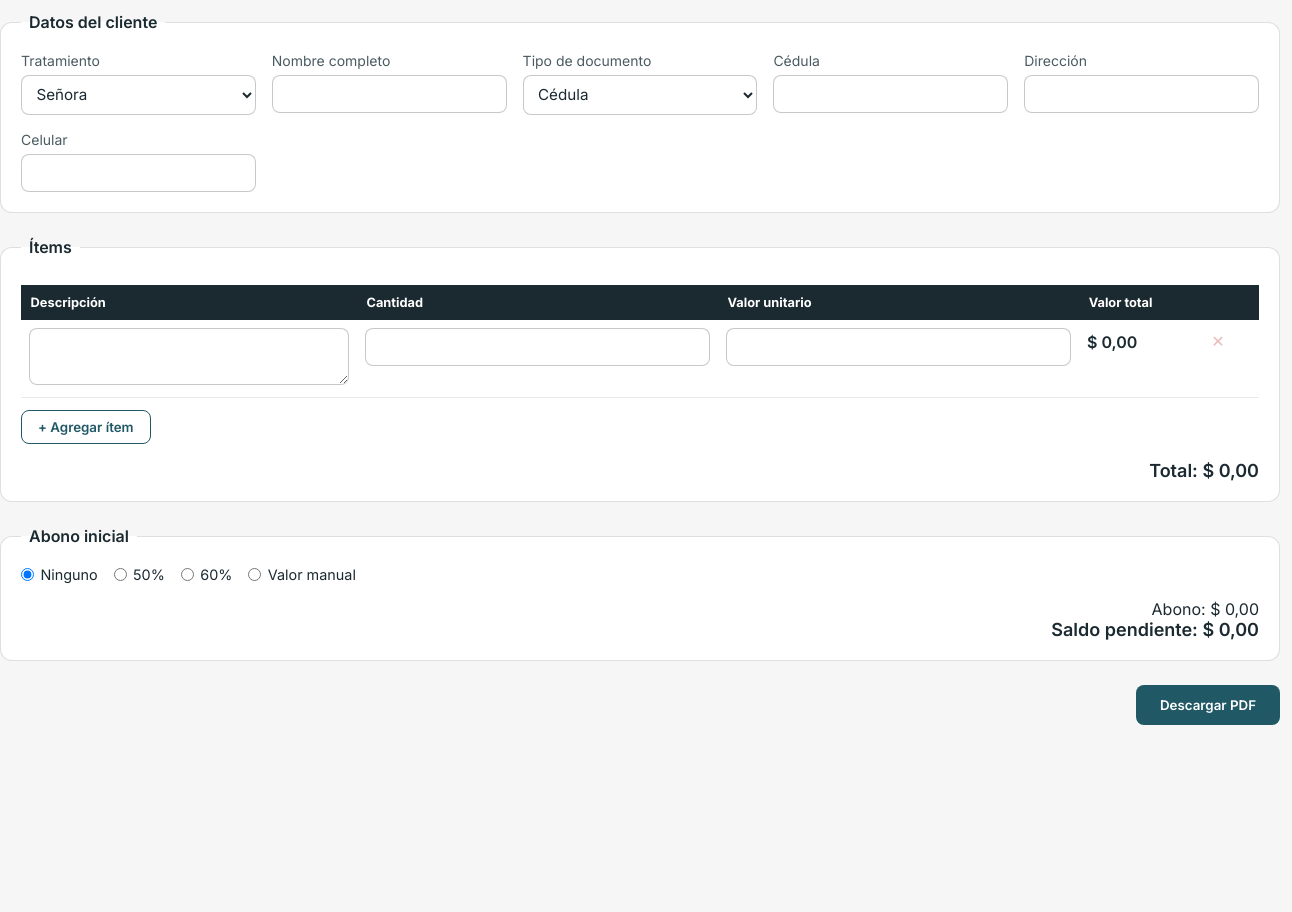
Scenario: CuentaCobroForm › muestra el campo de valor manual solo cuando se elige esa opción
Check: the field labelled "Valor del abono" is not shown
Step 1. Click the text "Valor manual" → coordinates (302, 575), box [248,566,356,583]
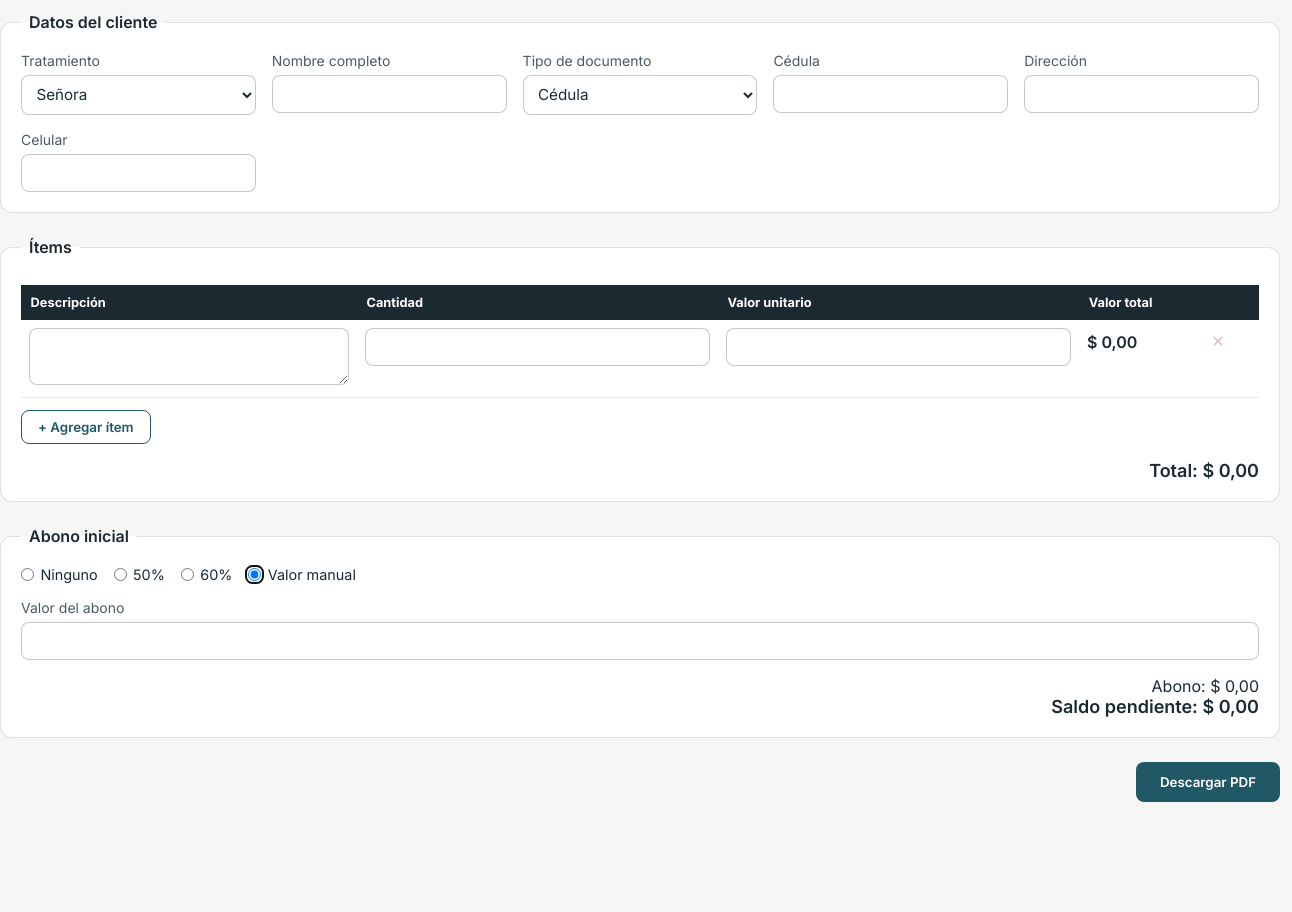
Check: the number field labelled "Valor del abono" is shown, box [21,622,1259,660]
